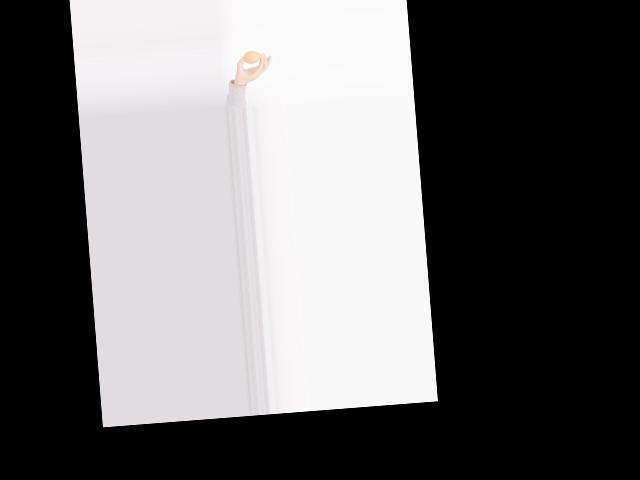egg: (243, 50, 261, 63)
